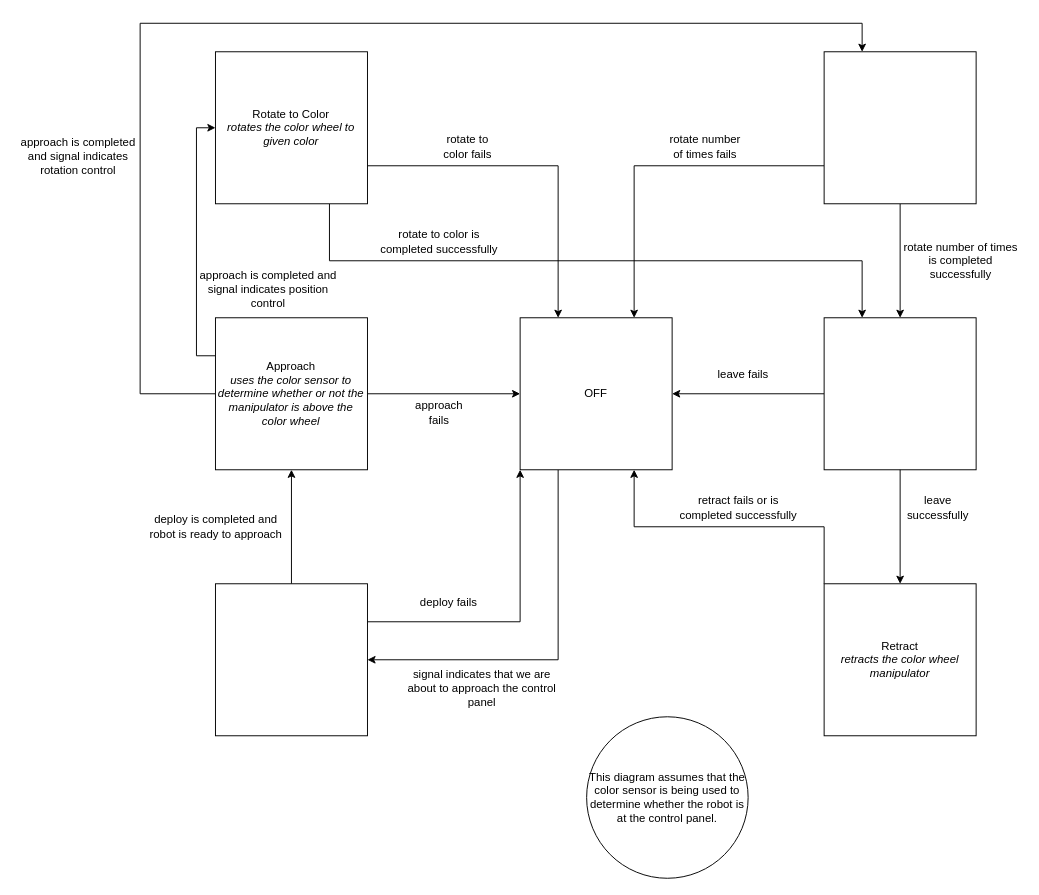
This 1039x895 diagram has some shape labels left out. The shapes that lost their labels are listed below. From the top down, each one's box as (x1, y1, x2, y2) in pixels, then its label:
(823, 51, 976, 204): Rotate Number of Times rota tes color wheel 3-5 times
(823, 317, 976, 470): Leave leaves the control panel using the color sensor
(215, 583, 367, 736): Deploy deploys the color wheel manipulator
